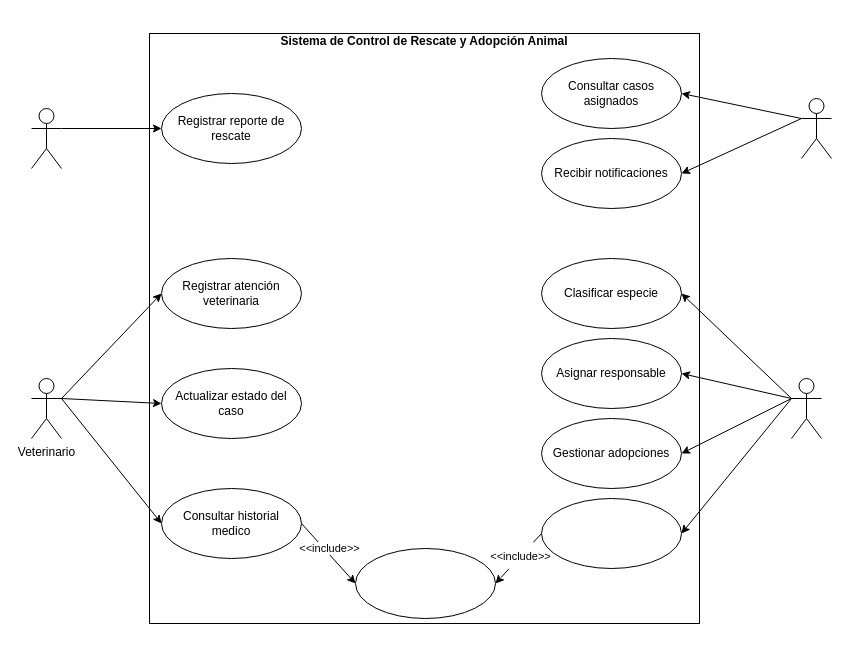
The diagram is 860 pixels wide and 656 high, and some of its shapes have lost their labels. Each missing label, with the centre of its shape:
"Administrador" goes at point (806, 408).
"Cerrar caso de rescate" goes at point (425, 583).
"Ciudadano" goes at point (46, 138).
"Consultar reportes" goes at point (611, 533).
"Voluntario" goes at point (816, 128).
